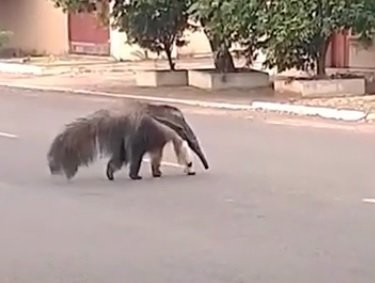TamanduaBandeira: (43, 97, 211, 183)
